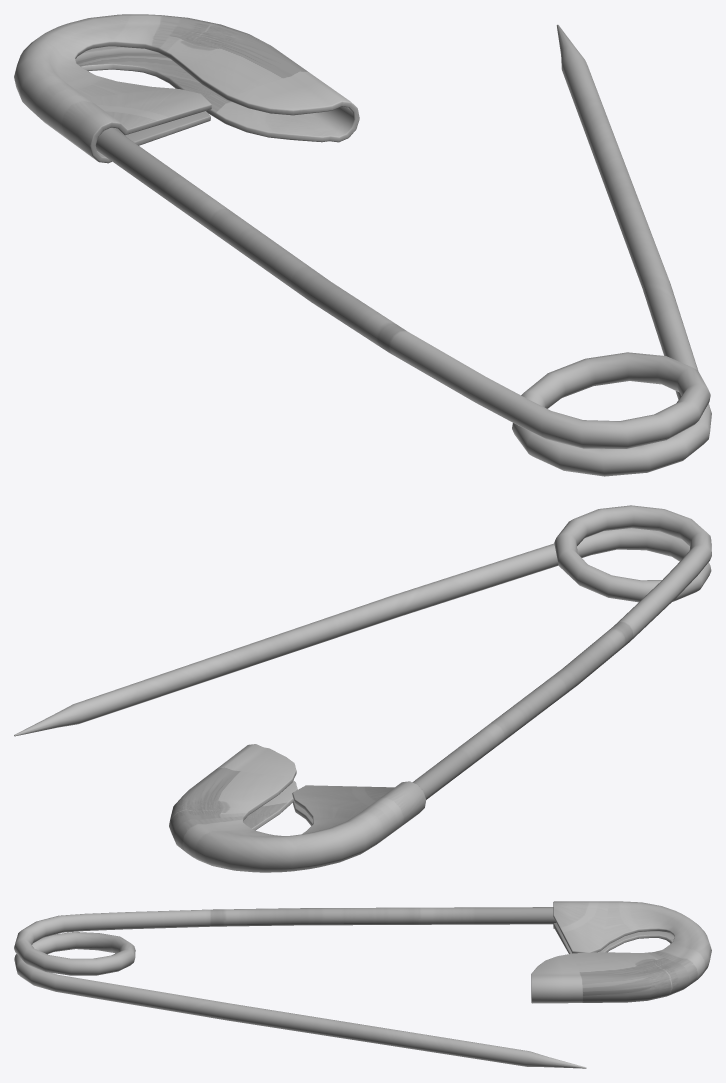
The model's file is Safety_Pin_Open.fbx.
3 renders of one model, top to bottom at view 1: azimuth 30°, elevation 25°; view 2: azimuth 150°, elevation 25°; view 3: azimuth 270°, elevation 25°, orthographic. The views are drawn at different scales.
Parts seen in each view (by area): view 1: Safety_Pin_Open; view 2: Safety_Pin_Open; view 3: Safety_Pin_Open.
Part boxes in pixels (left/top/right/bottom): Safety_Pin_Open: left=14, top=14, right=711, bottom=476; Safety_Pin_Open: left=14, top=505, right=711, bottom=872; Safety_Pin_Open: left=14, top=901, right=711, bottom=1068.
Bounding box in the file's own units: 2.08 × 0.2365 × 4.16.
1 material, 1 textured.
